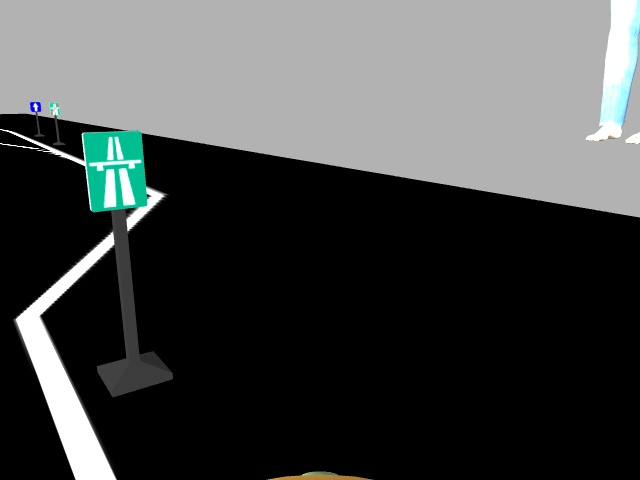HighwayEntrance: (80, 131, 147, 210)
